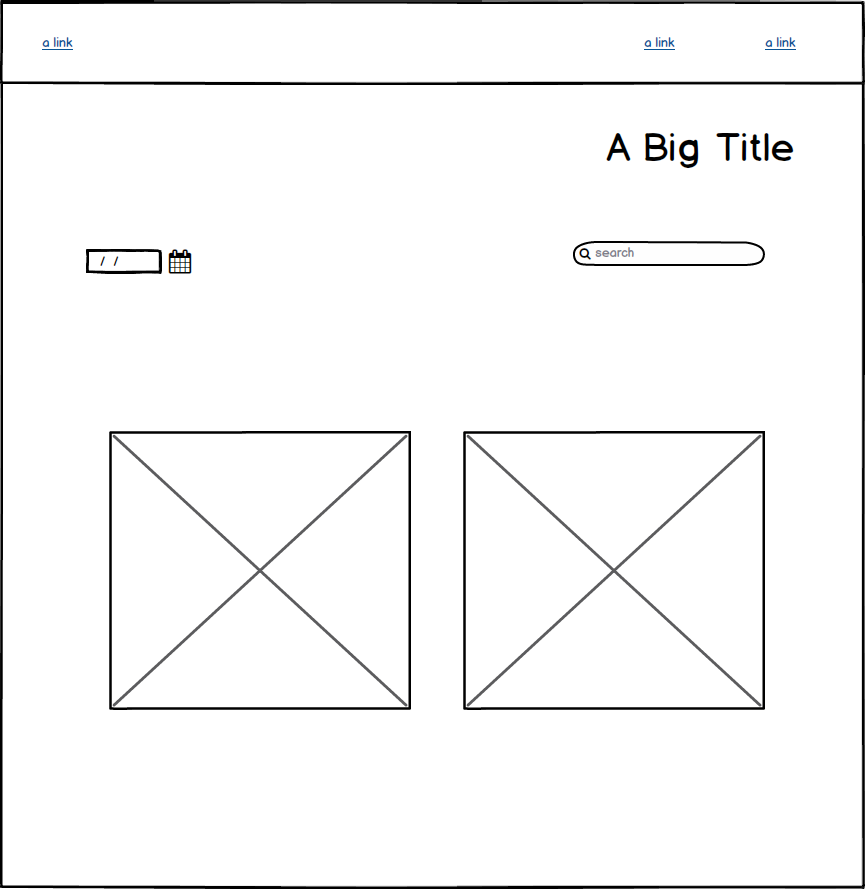date_picker: (80, 238, 206, 286)
h1: (601, 117, 802, 175)
image: (99, 423, 422, 719), (459, 425, 778, 715)
navlink: (638, 24, 697, 62), (757, 27, 806, 66), (37, 28, 83, 59)
search: (574, 233, 768, 279)
